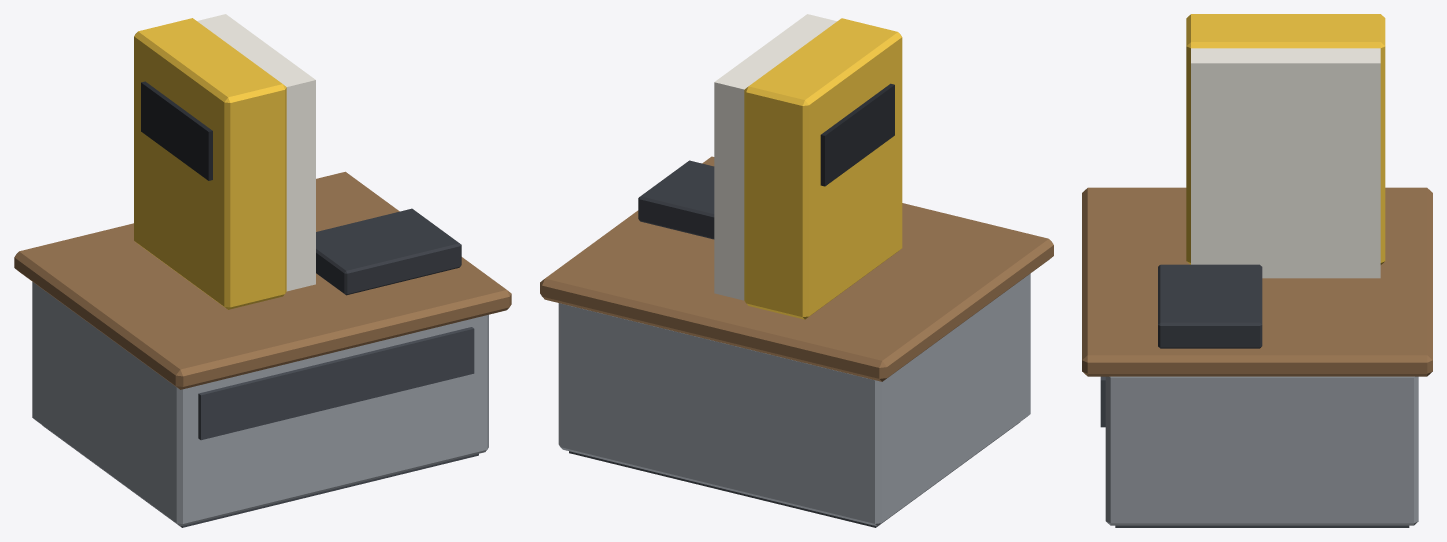
Rendered from delegation_p0_4.glb.
3 views of the same model, side by side, from view 1: azimuth 30°, elevation 25°; view 2: azimuth 150°, elevation 25°; view 3: azimuth 270°, elevation 25° (orthographic). The views are drawn at different scales.
Parts seen in each view (by area): view 1: delegation_p0_4_mesh_Desk, delegation_p0_4_mesh; view 2: delegation_p0_4_mesh_Desk, delegation_p0_4_mesh; view 3: delegation_p0_4_mesh_Desk, delegation_p0_4_mesh.
Boxes of the visible parts, bbox=[...] form: delegation_p0_4_mesh_Desk: bbox=[14, 171, 511, 527]; delegation_p0_4_mesh: bbox=[134, 14, 461, 309]; delegation_p0_4_mesh_Desk: bbox=[540, 156, 1053, 527]; delegation_p0_4_mesh: bbox=[638, 14, 902, 319]; delegation_p0_4_mesh_Desk: bbox=[1082, 187, 1432, 527]; delegation_p0_4_mesh: bbox=[1158, 14, 1385, 348].
Size of the model in its own units: 0.86 by 0.94 by 0.74.
